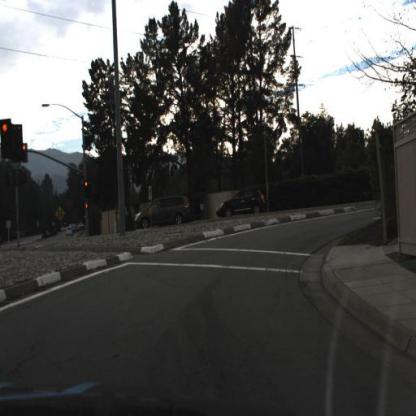car: (133, 191, 192, 230), (215, 187, 267, 221)
trafficLight-Red: (2, 122, 14, 158), (22, 143, 28, 164), (84, 182, 89, 196)
